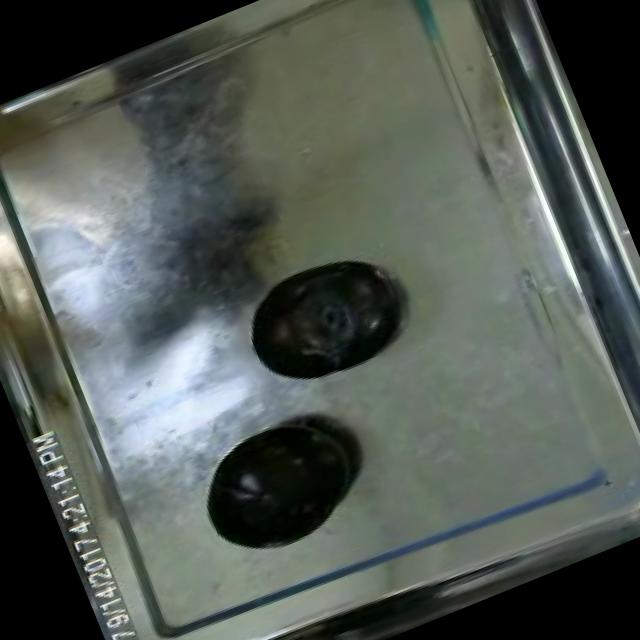Fruit: (176, 398, 376, 575), (224, 240, 416, 406)
